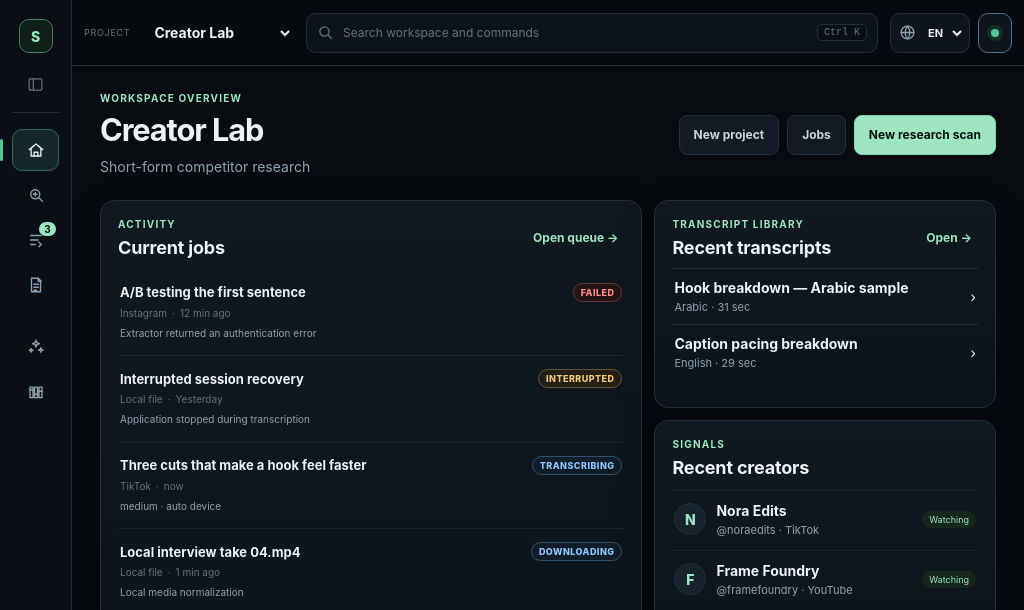
Test: desktop workstation › searches timestamped transcript segments and jumps back to full context
Check: the heading "Creator Lab" is shown, box [100,111,263,148]
Click the button named "Transcript".
click(36, 285)  # box [12,264,59,306]
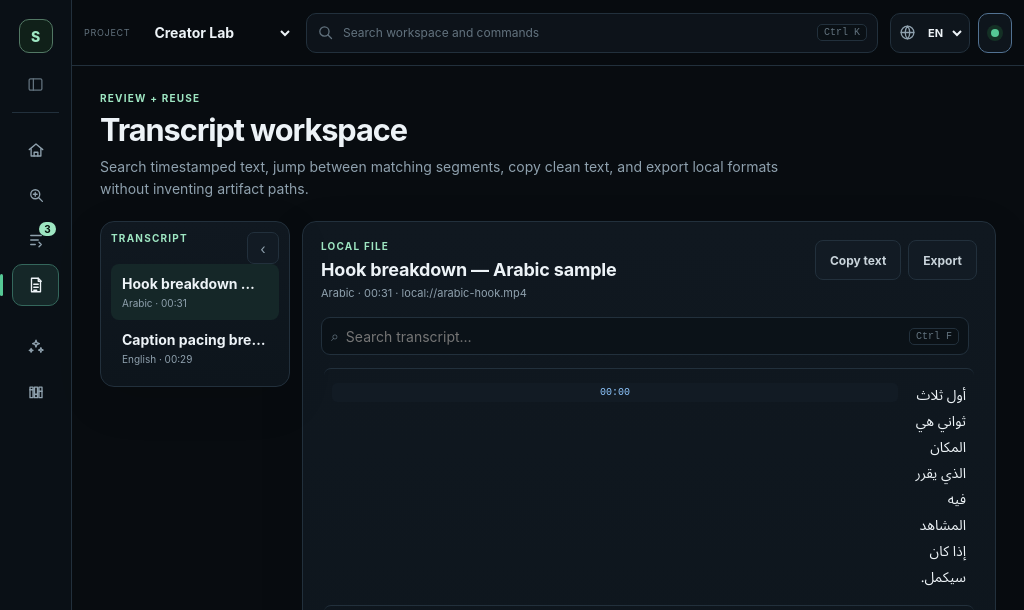
Type "النتيجة" into the field named "Search transcript".
click(624, 336); type("النتيجة")  # box [346,319,902,353]
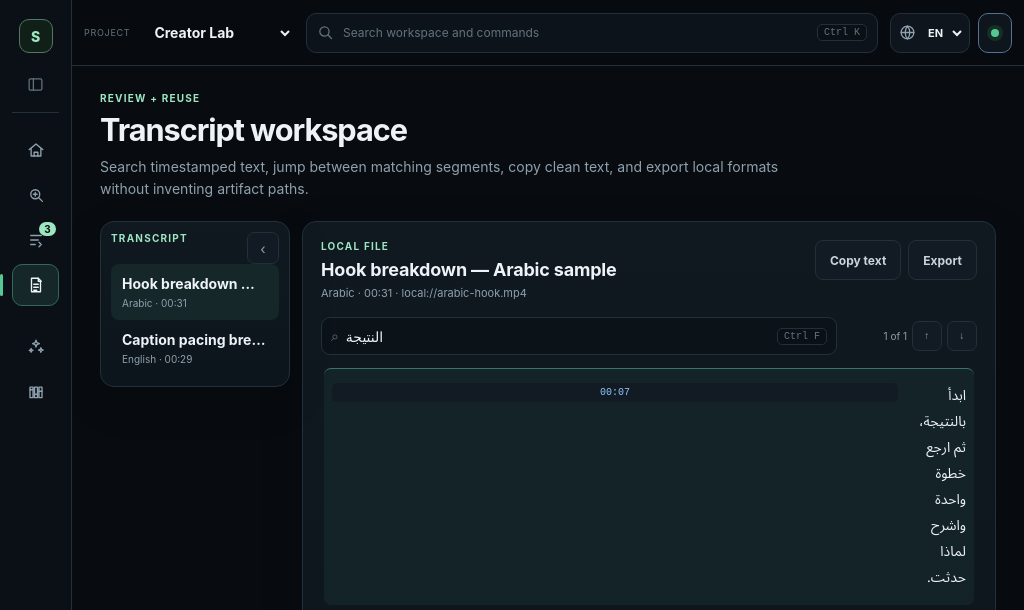
Check: the text "ابدأ بالنتيجة، ثم ارجع خطوة واحدة واشرح لماذا حدثت." is shown, box [912,383,966,590]
Check: the text "أول ثلاث ثواني" is gone
Click the button named "Jump to 00:07".
click(615, 393)  # box [332,383,898,402]
(page scrolled)
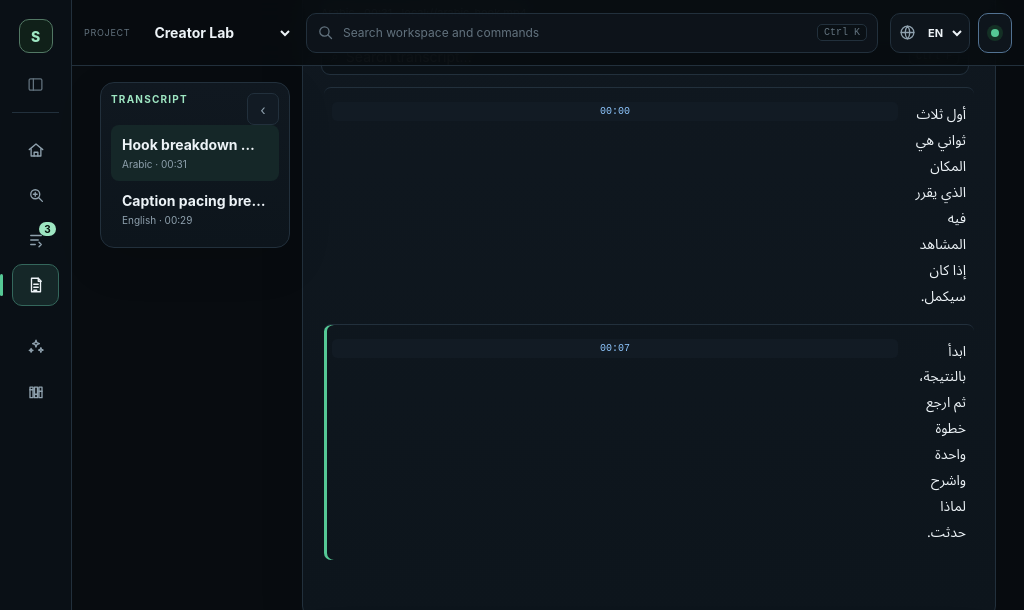
Check: the text "أول ثلاث ثواني" is shown, box [916,100,966,311]
